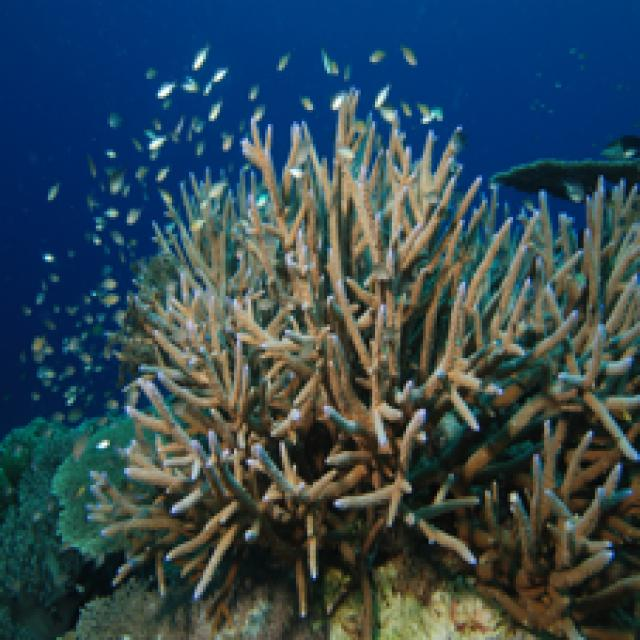Healthy: (80, 91, 638, 638)
